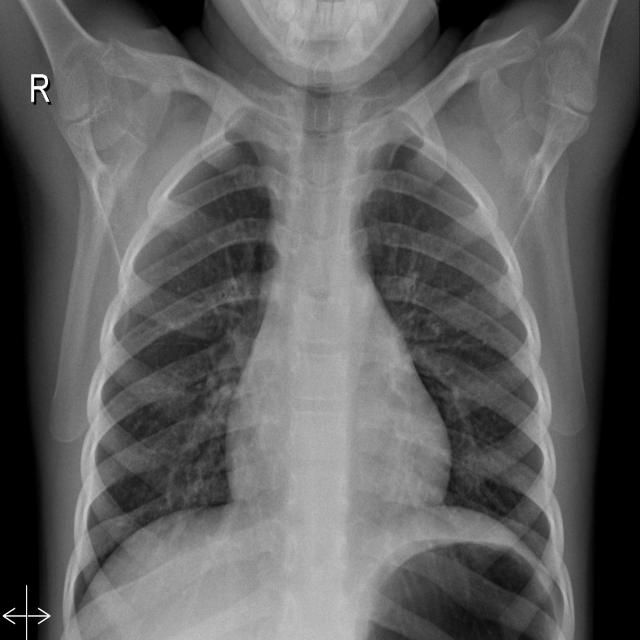no-pneumonia: (75, 142, 276, 605), (361, 145, 553, 559)
